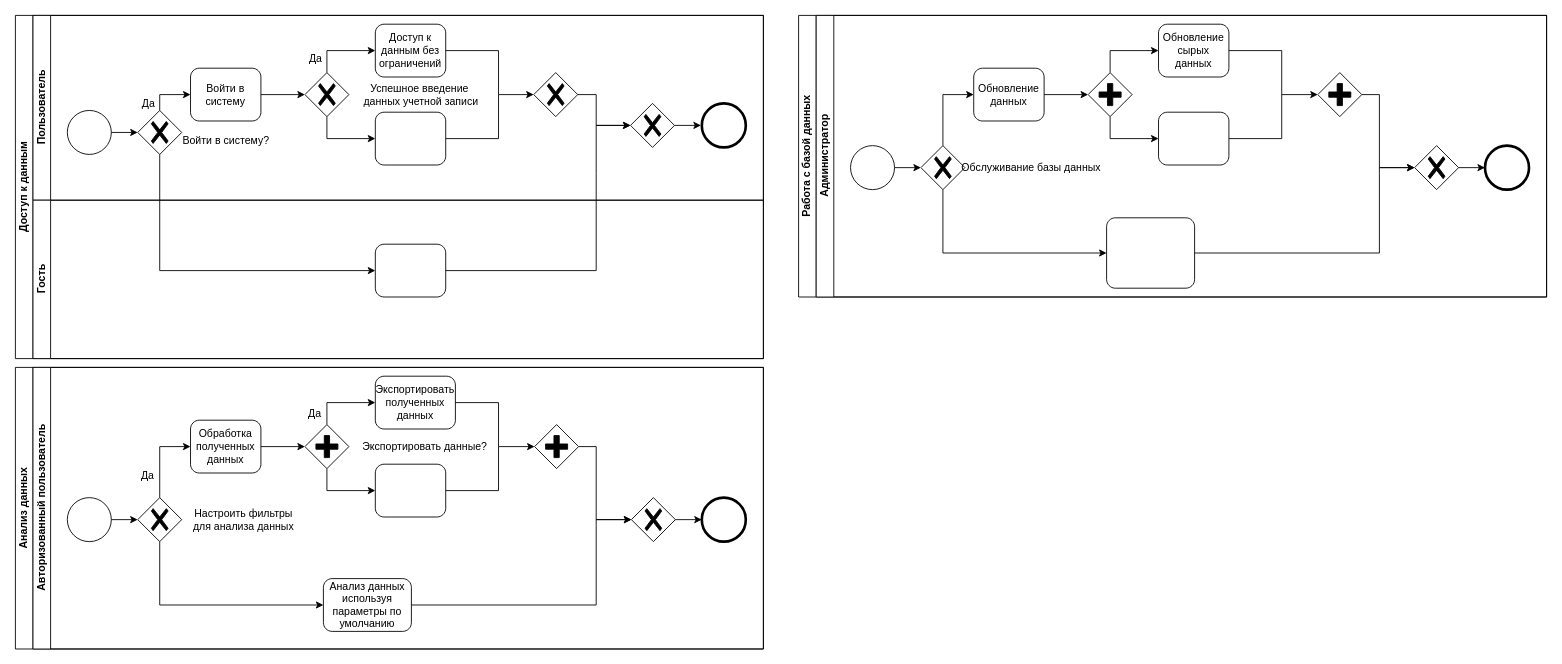
This 1562x664 diagram has some shape labels left out. The shapes that lost their labels are listed below. From the top down, each one's centre as x and y in pixels, then its label:
At [410,138]: "Отказ. Повтор ввода".
At [1193,138]: "Добавление новых данных".
At [410,270]: "Ограниченный доступ к данным".
At [1150,252]: "Добавление статистик (отчетов) зарплат".
At [410,490]: "Анализ данных на проиложение".
